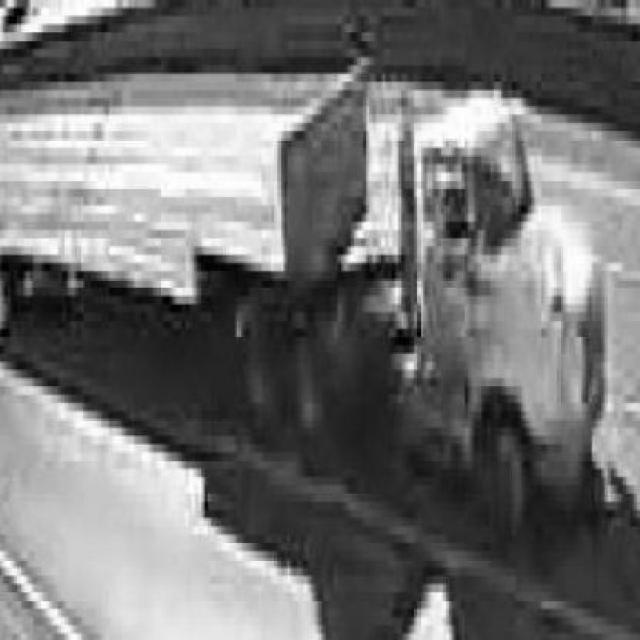Box Truck: (0, 84, 608, 571)
